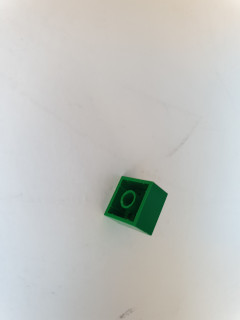2x2 green: (99, 171, 170, 239)
